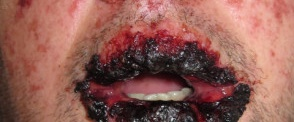SJS-TEN: (66, 12, 258, 122)
